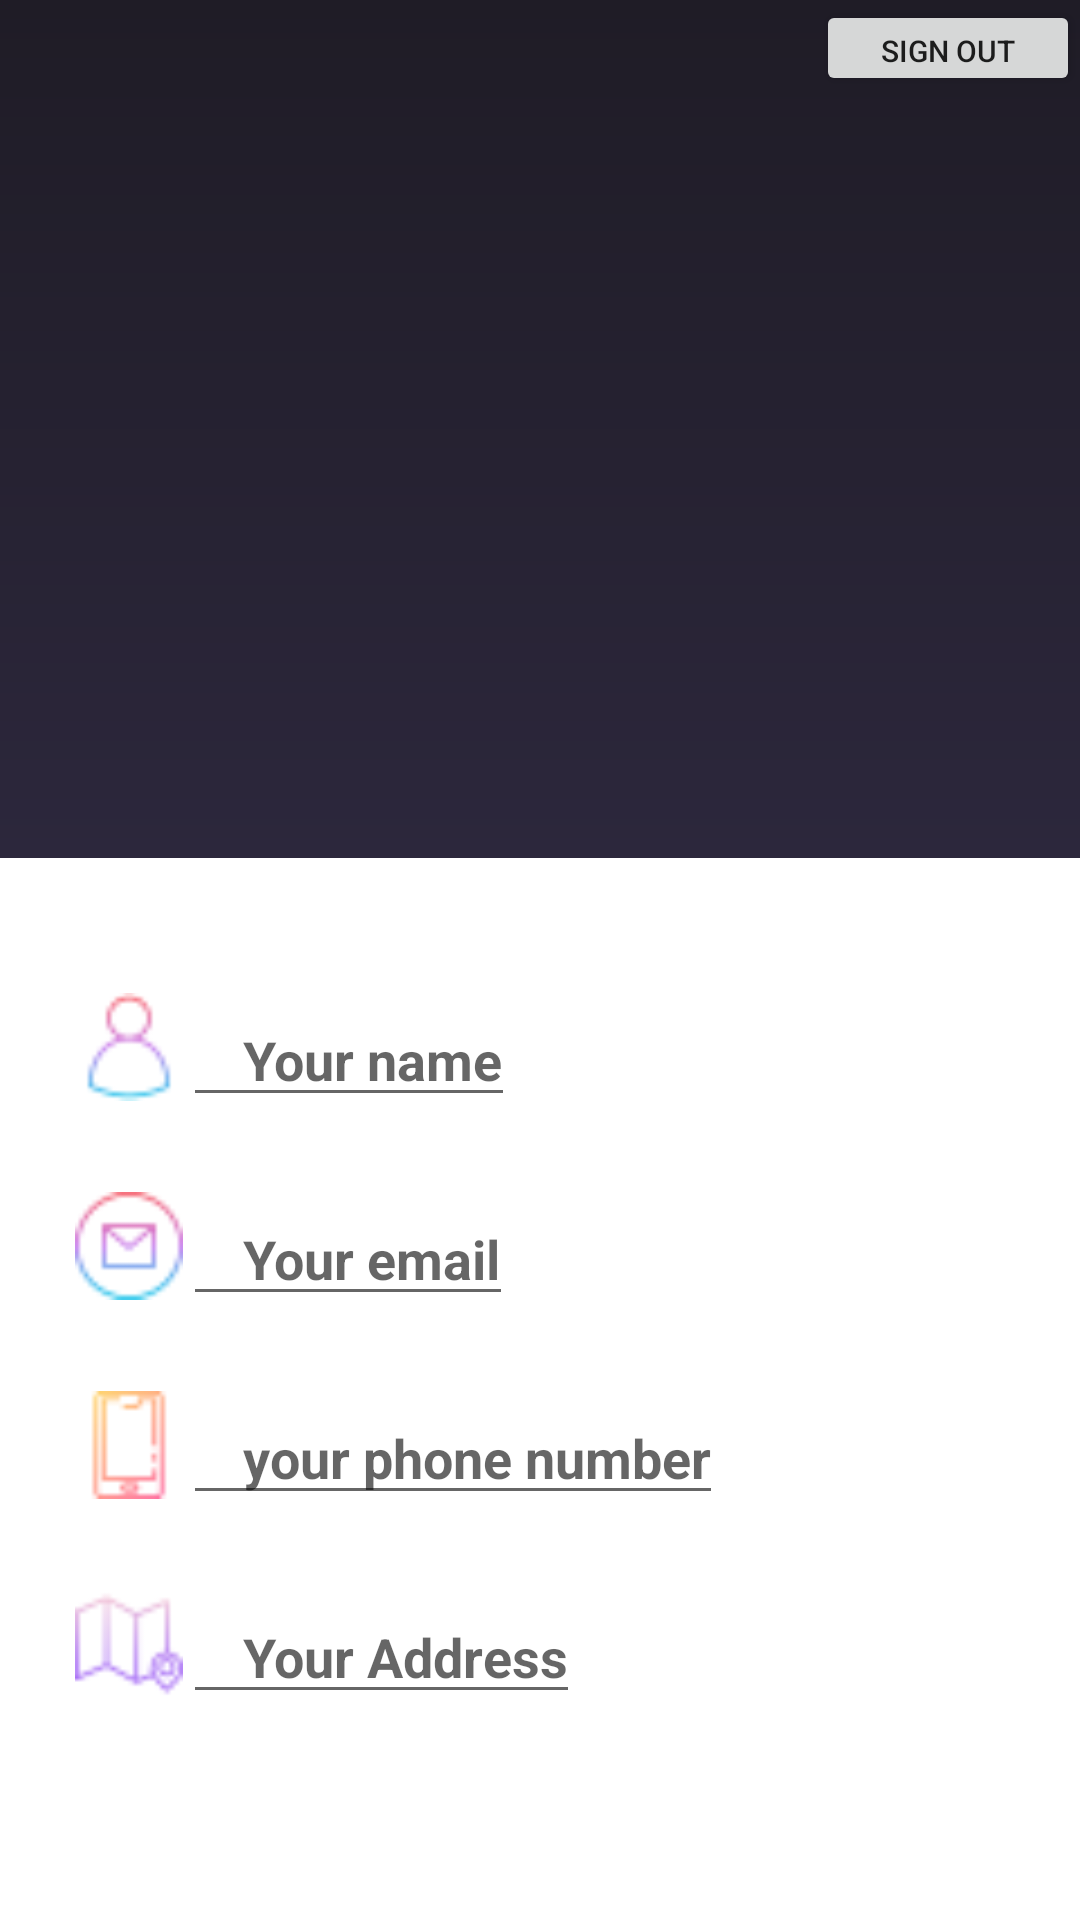

Icon click points for this 1080*1920 phone screenshot, format (x=x, y=y):
user: (x=129, y=1047)
